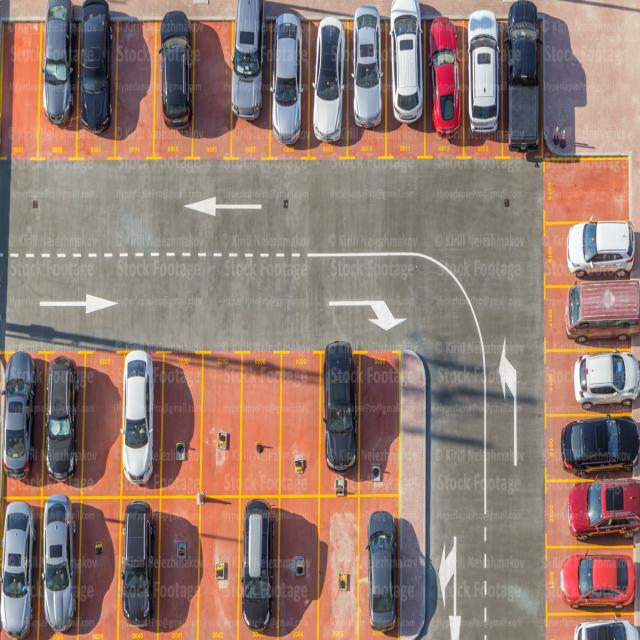cars: (504, 0, 540, 153), (564, 278, 640, 344), (561, 414, 639, 478), (0, 500, 36, 638), (41, 493, 76, 632), (1, 350, 37, 480), (120, 349, 154, 485), (120, 499, 156, 626), (567, 478, 640, 540), (323, 340, 357, 472), (240, 499, 274, 630), (270, 11, 302, 146), (80, 0, 112, 134), (44, 355, 78, 481), (41, 0, 75, 125), (389, 0, 423, 124), (566, 218, 635, 279), (560, 553, 635, 609), (312, 16, 345, 143), (230, 0, 264, 121), (428, 17, 462, 138), (574, 349, 640, 411), (467, 9, 500, 133), (158, 9, 192, 128), (366, 510, 397, 631), (352, 4, 382, 129), (574, 618, 640, 639)
